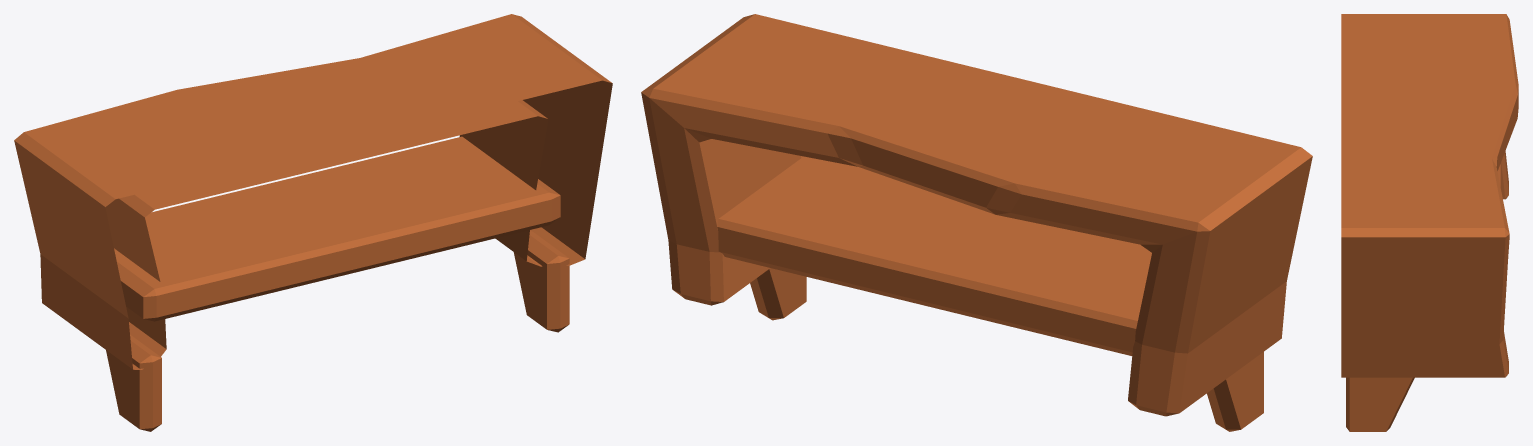
File: AS_Castle_Shelf.fbx
The picture shows the model from 3 angles, left to right: view 1: azimuth 30°, elevation 25°; view 2: azimuth 150°, elevation 25°; view 3: azimuth 270°, elevation 25°; orthographic projection. The views are drawn at different scales.
Parts seen in each view (by area): view 1: Cube.063; view 2: Cube.063; view 3: Cube.063.
Boxes of the visible parts, x1,y1,x2,y2 form: Cube.063: (14,14,612,431); Cube.063: (641,14,1312,431); Cube.063: (1341,14,1518,431).
Bounding box in the file's own units: 626 × 290 × 211.
